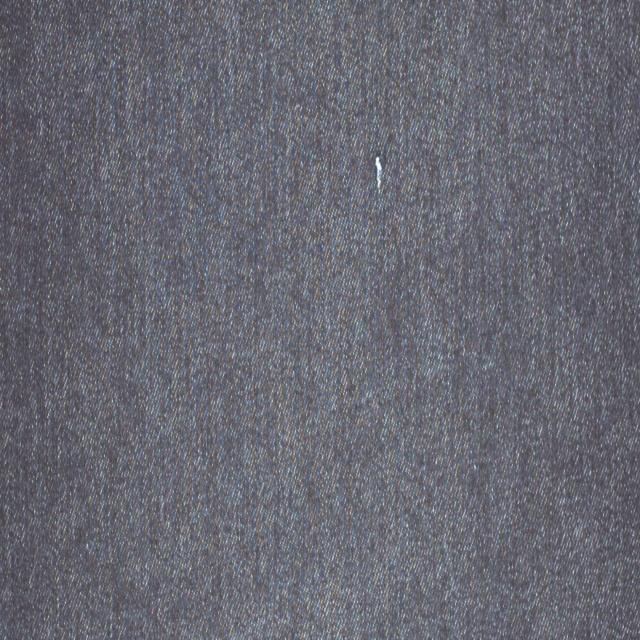Knot: (377, 156, 384, 192)
